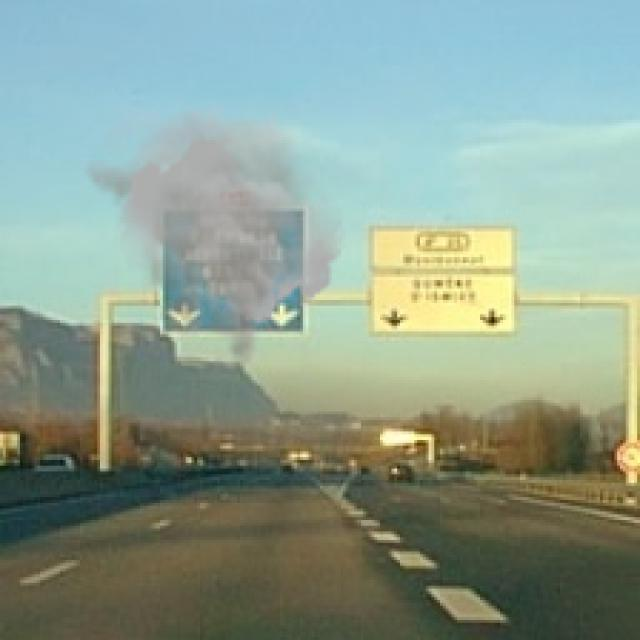smoke: (83, 100, 346, 377)
